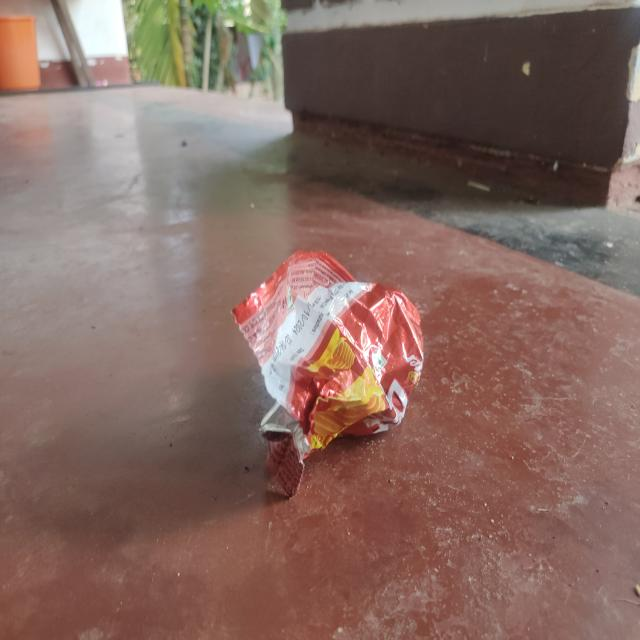plastic: (234, 245, 426, 508)
